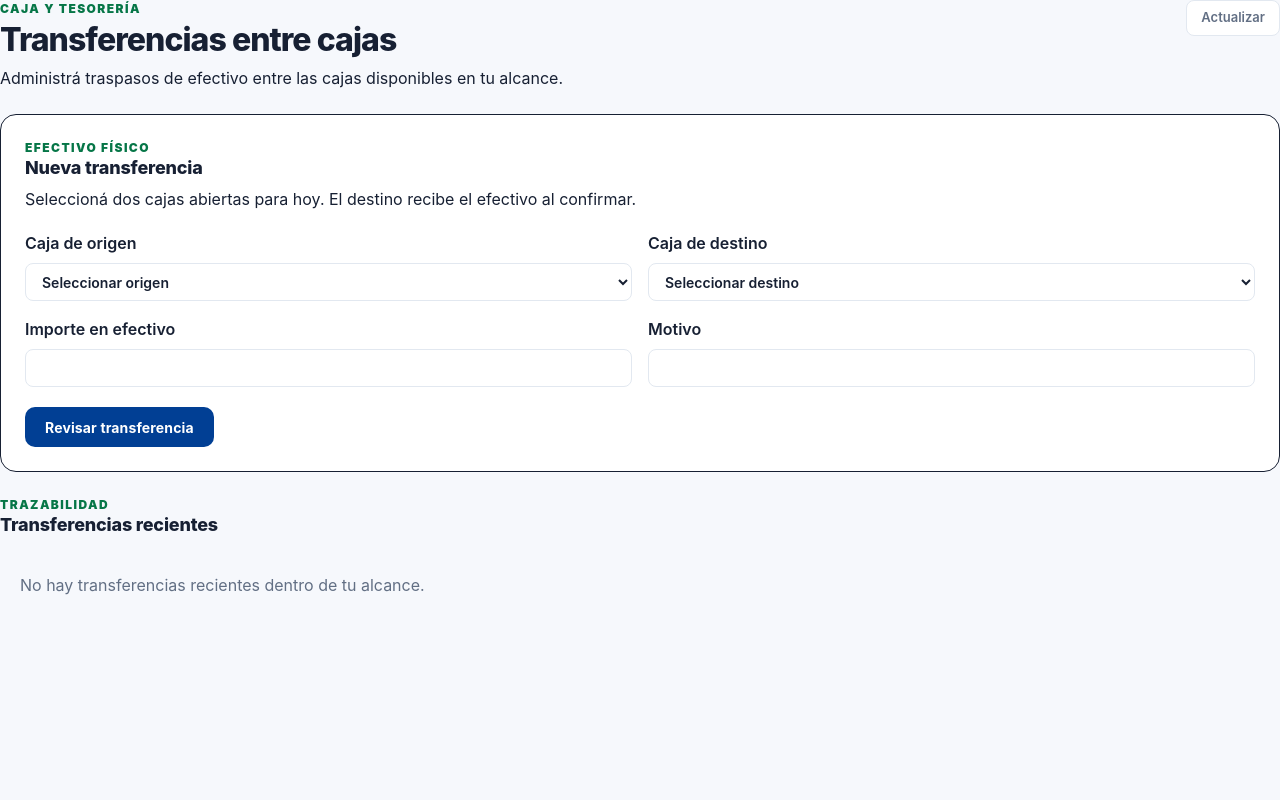
Test case: Opciones vigentes e importes de entrada › limpia la caja de destino desaparecida al actualizar antes de revisar
The image size is (1280, 800).
Step 1. Select "Posadas · cajera.posadas · Caja #11" in the dropdown with id "transferencia-origen" → (328, 282), box [25,263,632,301]
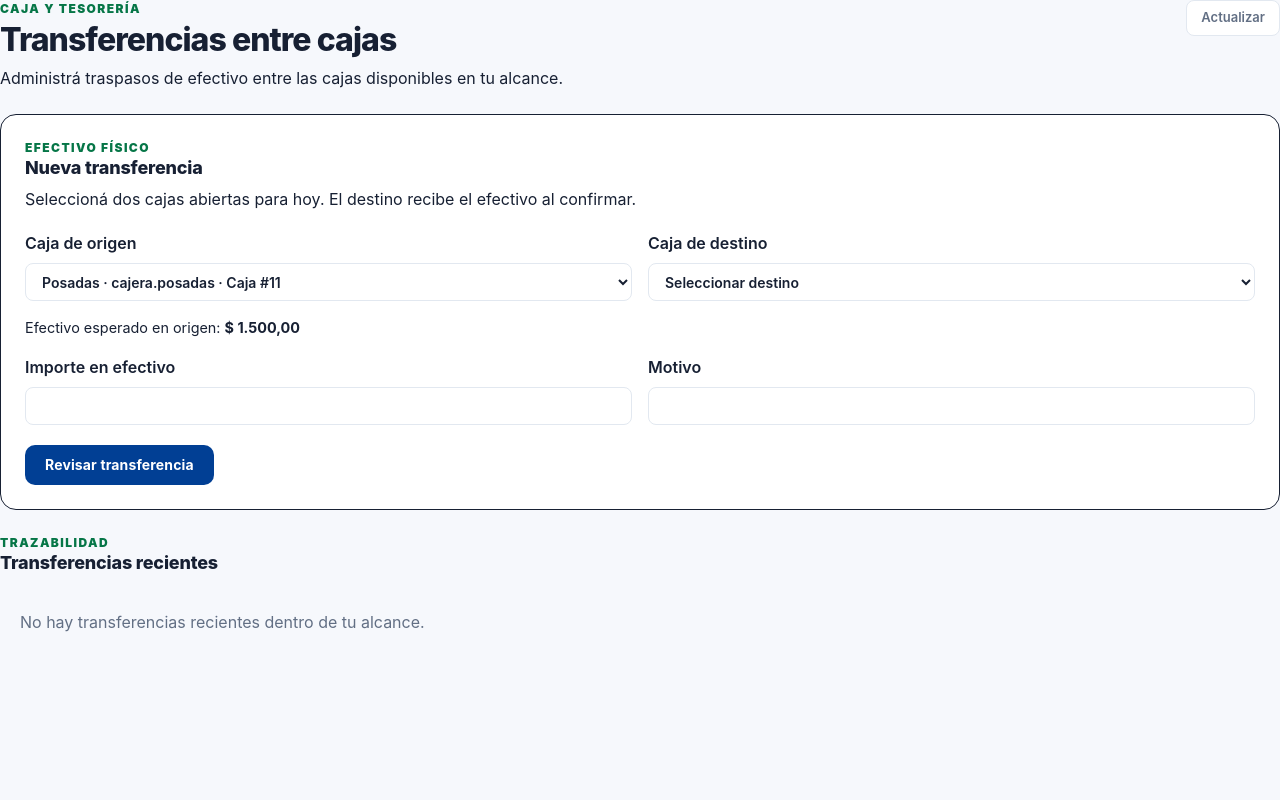
Step 2. Select "Eldorado · cajero.eldorado · Caja #12" in the dropdown with id "transferencia-destino" → (952, 282), box [648,263,1255,301]
Step 3. Type "250.50" into the number field with id "transferencia-importe" → (328, 406), box [25,387,632,425]
Step 4. Type "Reposición de efectivo" into the field with id "transferencia-motivo" → (952, 406), box [648,387,1255,425]
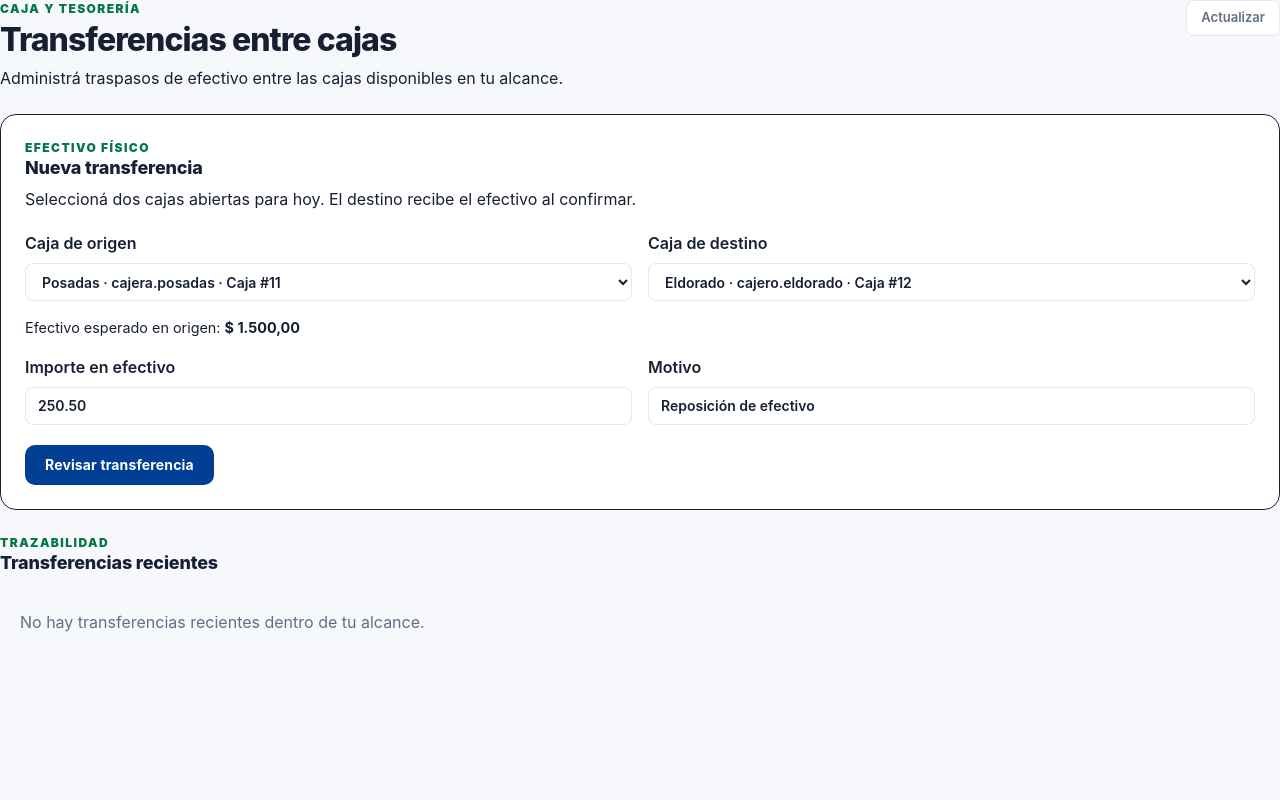
Step 5. Click the button "Actualizar" → (1233, 18), box [1186,0,1279,36]
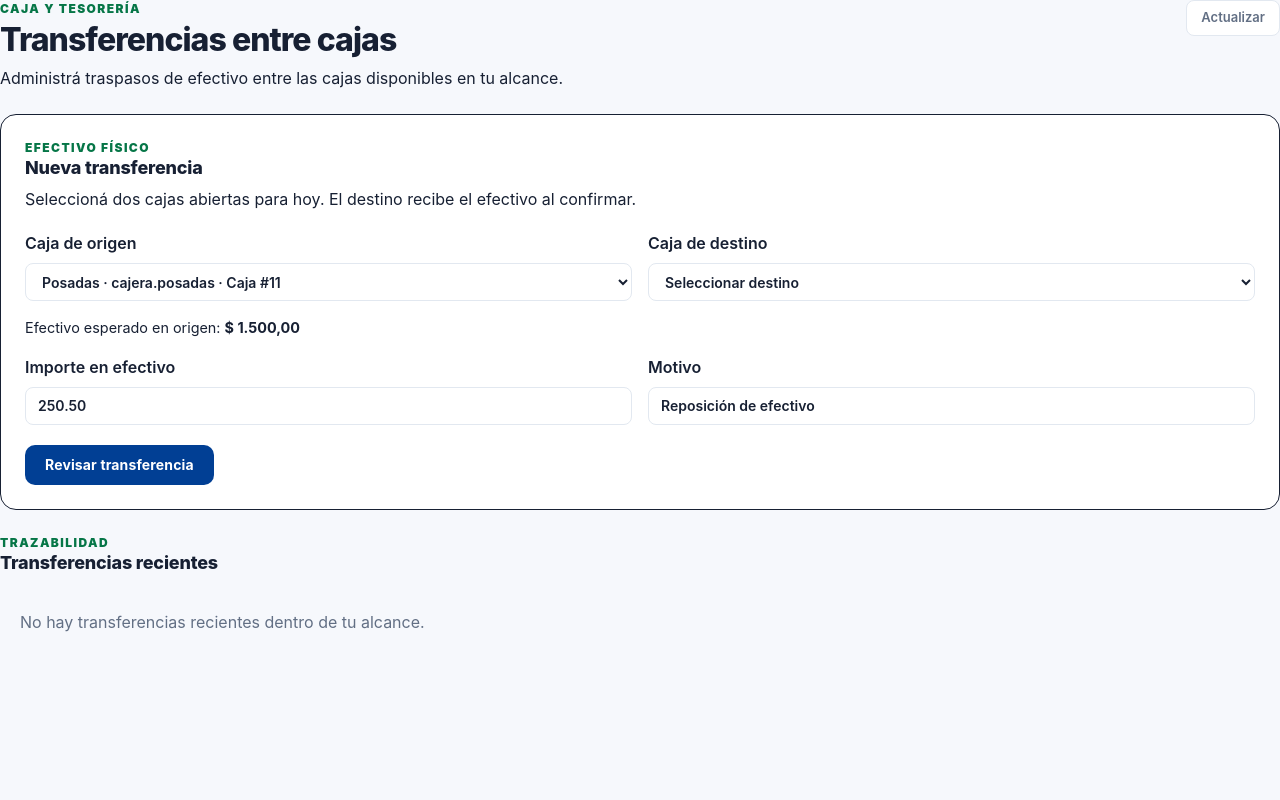
Step 6. Submit the form, box [25,231,1255,485]
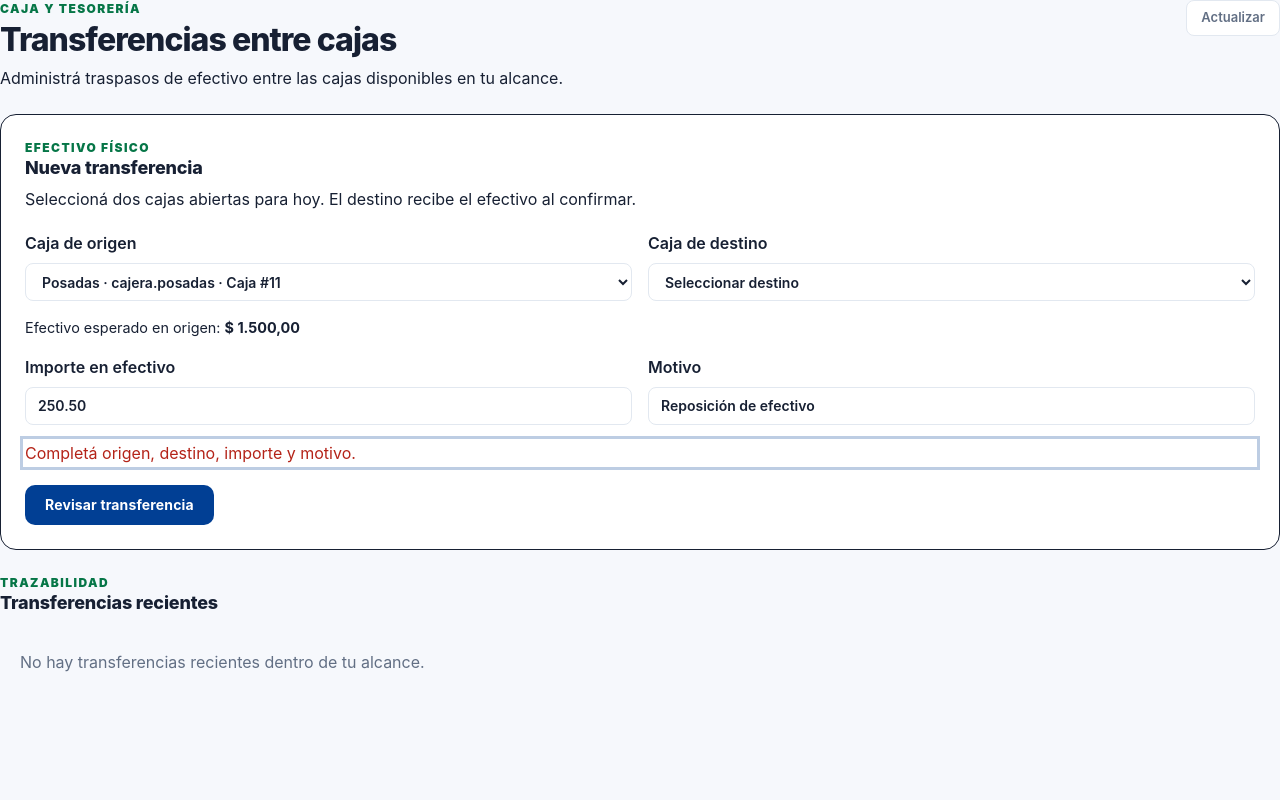
Check: the message "Completá origen, destino, importe y motivo." is shown, box [25,443,356,463]
Step 7. Select "Eldorado · cajera.respaldo · Caja #13" in the dropdown with id "transferencia-destino" → (952, 282), box [648,263,1255,301]
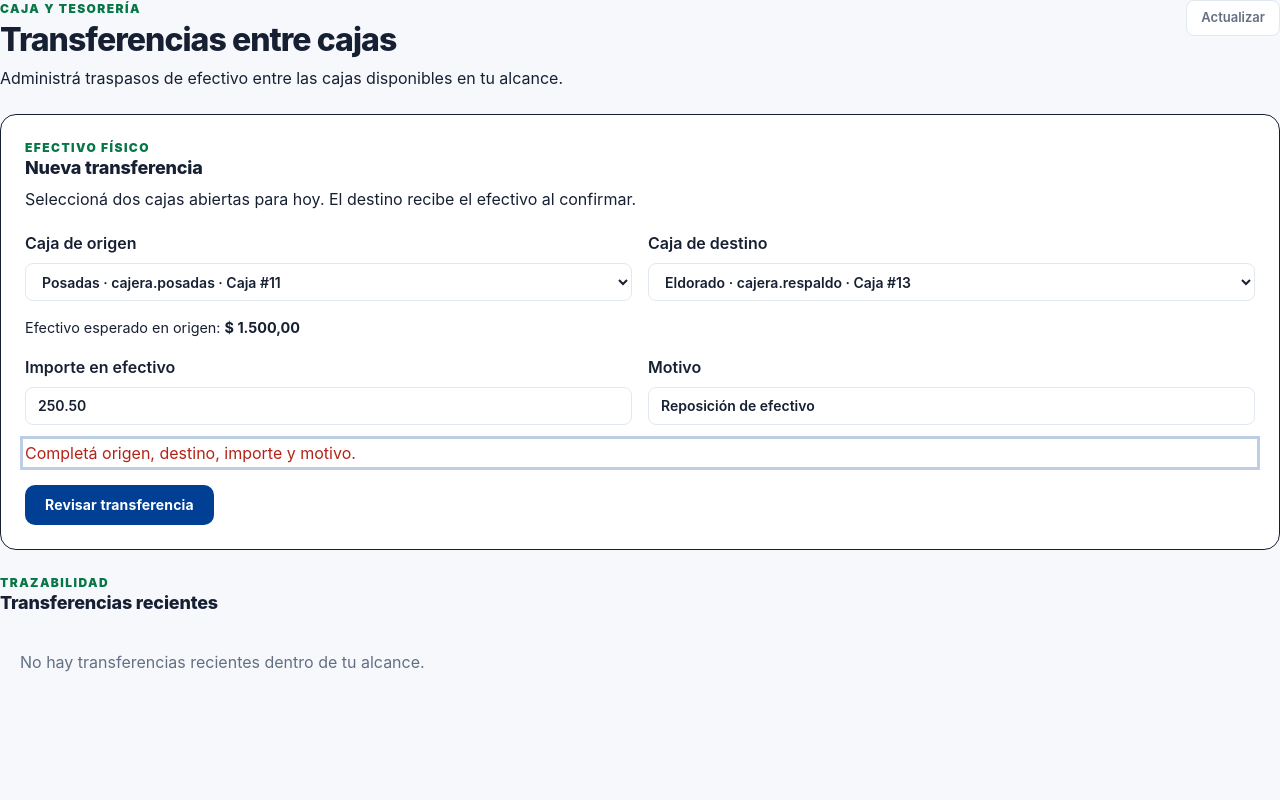
Step 8. Submit the form, box [25,231,1255,525]
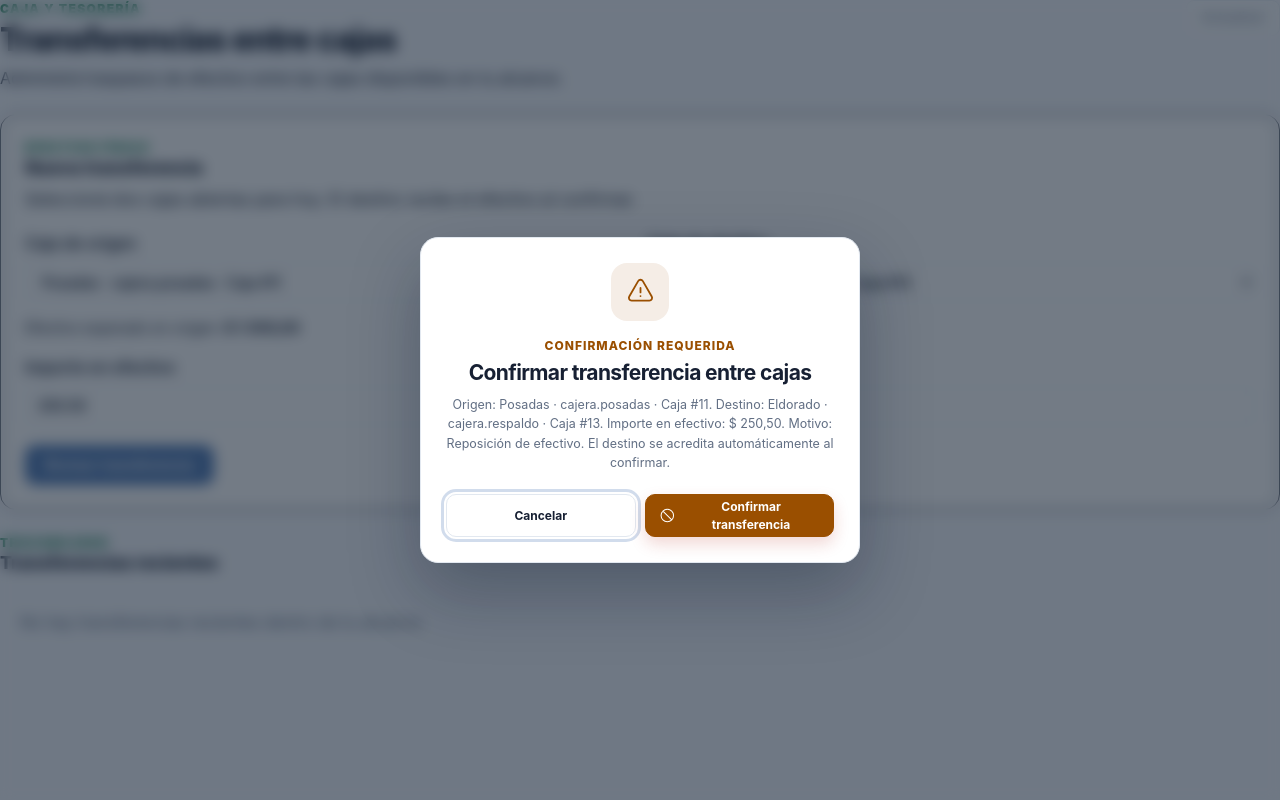
Check: the dialog shows "Caja #13", box [446,397,833,470]
